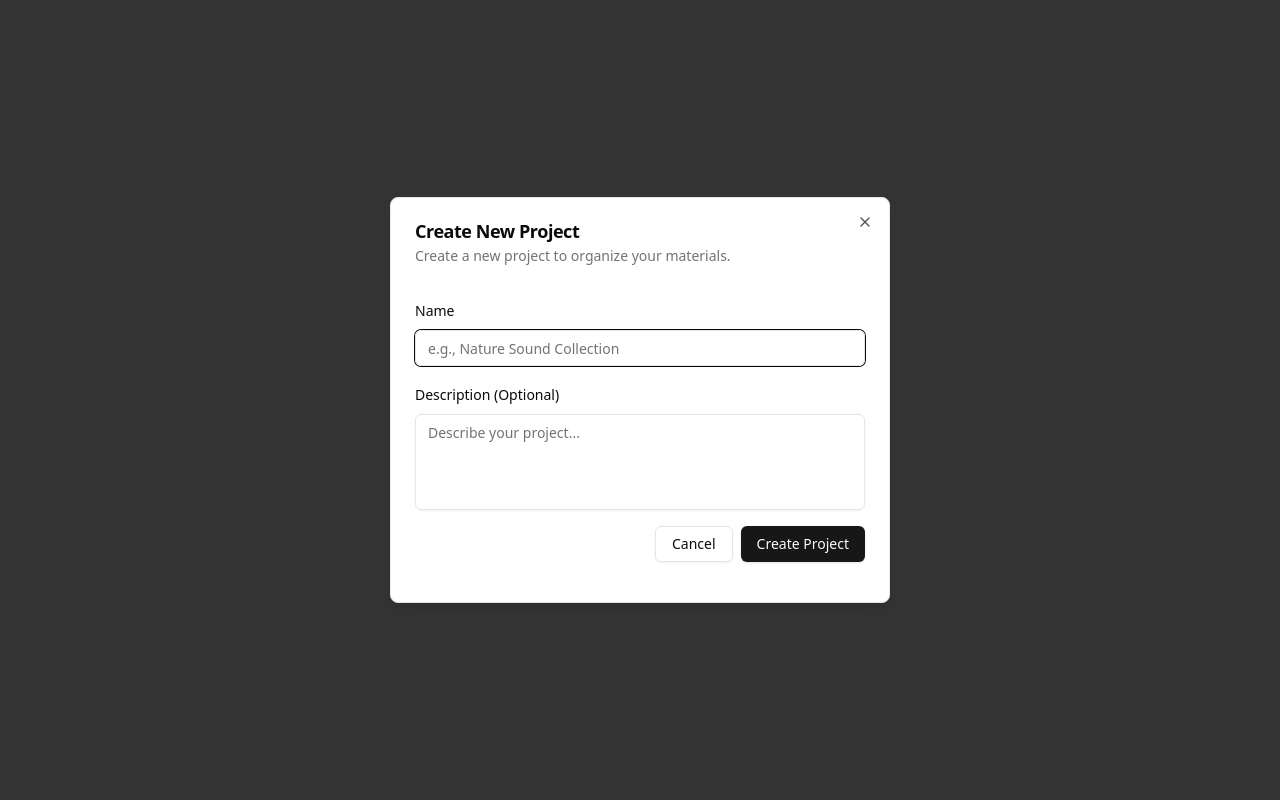
Test case: ProjectFormModal › shows API error message if submission fails
Type "Existing Project" into the field labelled "Name" at [640, 348], box [415,330,865,366]
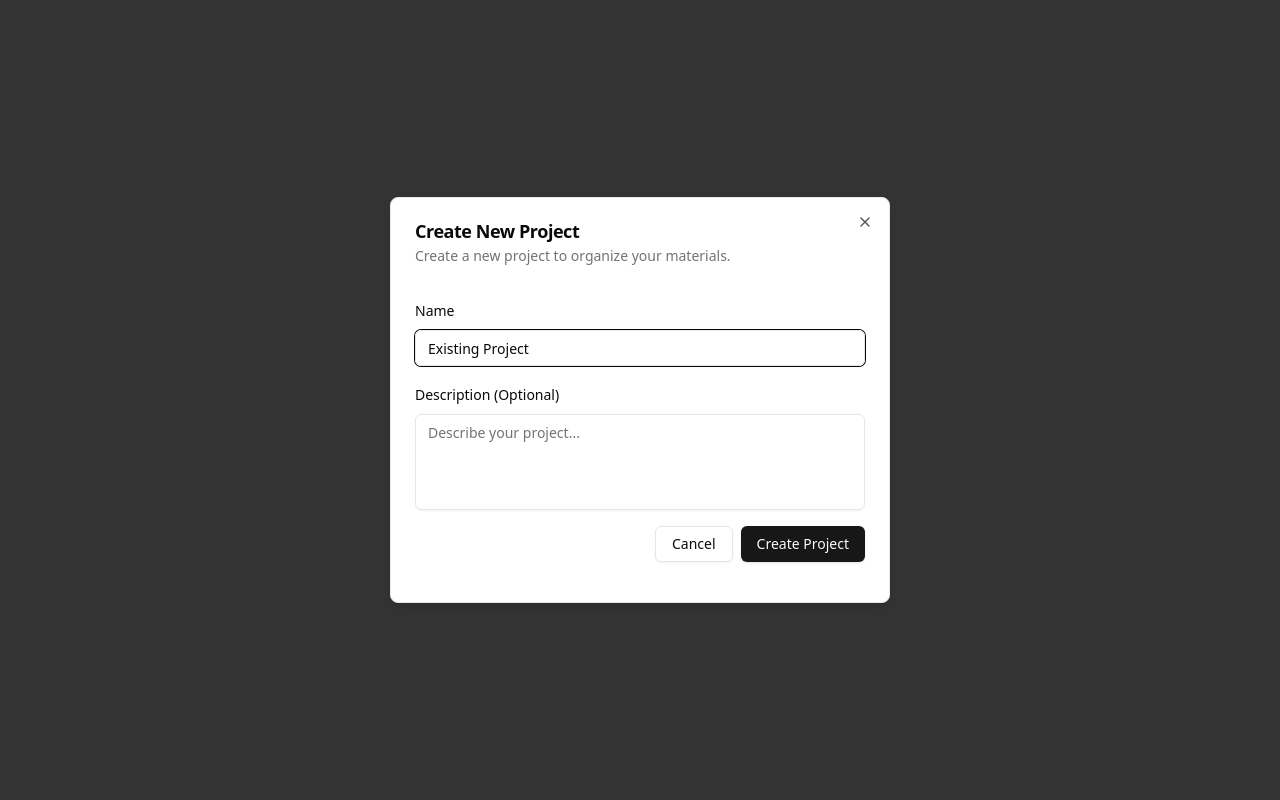
Click the button "Create Project" at [803, 544], box [741,526,865,562]
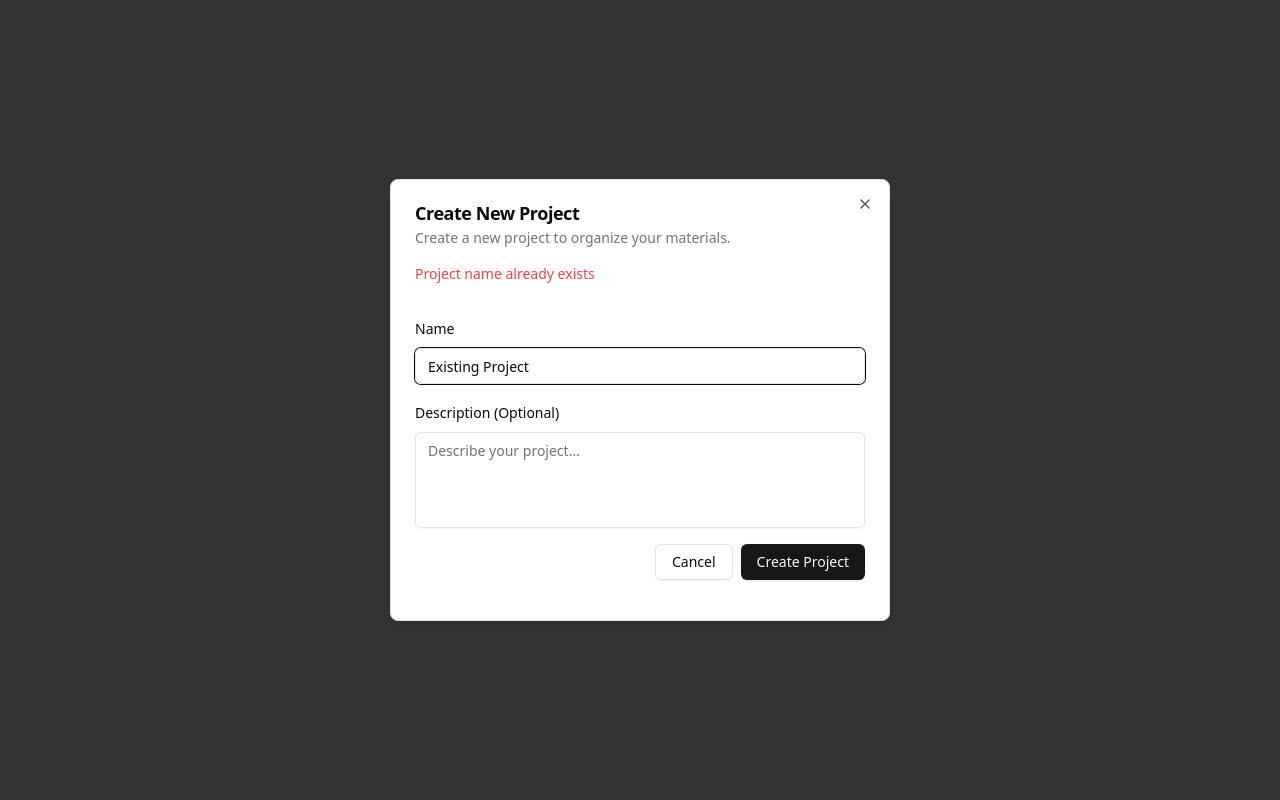
expect the text "Project name already exists" is shown: met, box [415,264,595,283]
